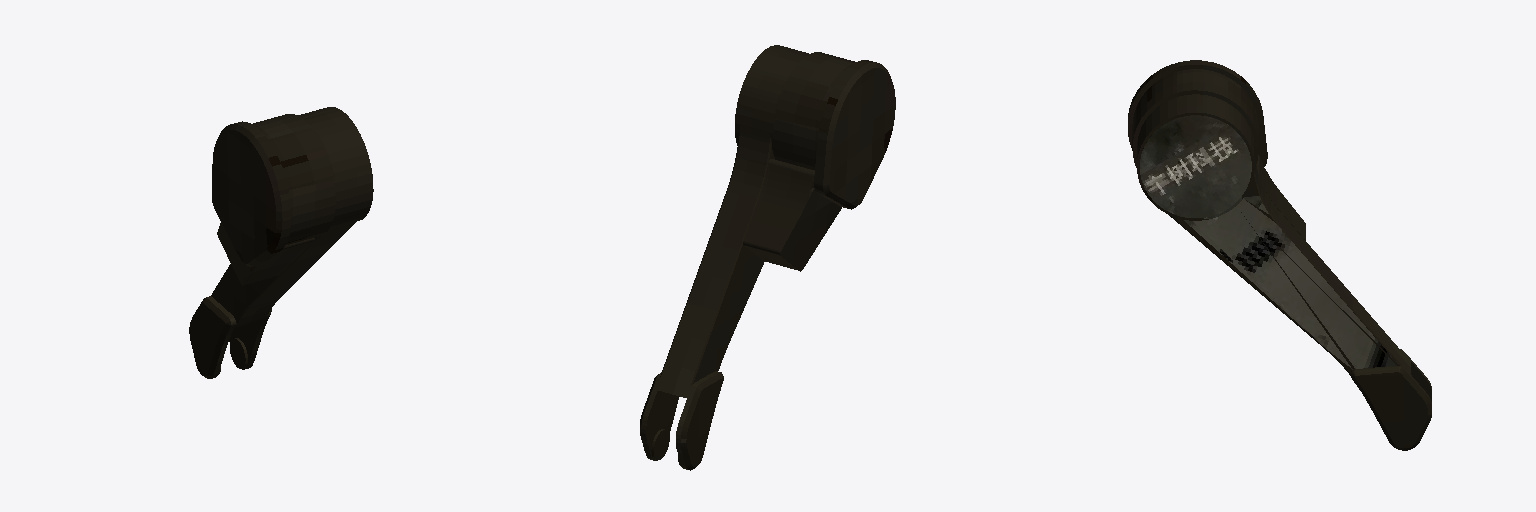
3 views of the same model, side by side, from view 1: azimuth 30°, elevation 25°; view 2: azimuth 150°, elevation 25°; view 3: azimuth 270°, elevation 25° (orthographic).
Visible parts, largest first — view 1: EXP_OTL_-_EXP_OTL_FLA-1_EXP_OTL_FLA_FL2-1_median_joint_mirror; view 2: EXP_OTL_-_EXP_OTL_FLA-1_EXP_OTL_FLA_FL2-1_median_joint_mirror; view 3: EXP_OTL_-_EXP_OTL_FLA-1_EXP_OTL_FLA_FL2-1_median_joint_mirror.
Boxes of the visible parts, <box> form: EXP_OTL_-_EXP_OTL_FLA-1_EXP_OTL_FLA_FL2-1_median_joint_mirror: <box>189,107,373,378</box>; EXP_OTL_-_EXP_OTL_FLA-1_EXP_OTL_FLA_FL2-1_median_joint_mirror: <box>640,45,895,470</box>; EXP_OTL_-_EXP_OTL_FLA-1_EXP_OTL_FLA_FL2-1_median_joint_mirror: <box>1128,60,1431,450</box>.
Bounding box in the file's own units: 0.0889 × 0.2618 × 0.2119.
Materials: 1 (1 with a texture image).